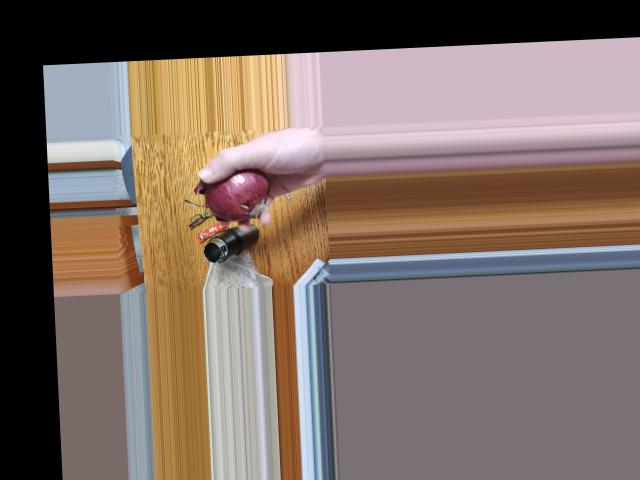onion: (204, 165, 265, 216)
